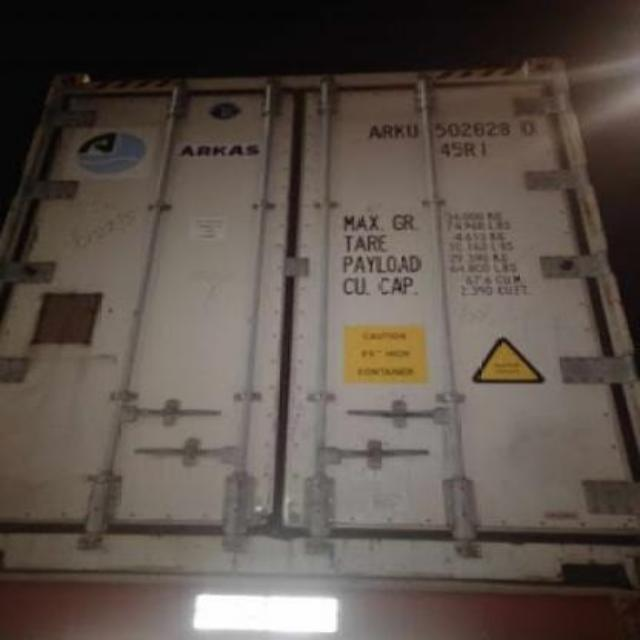0: (520, 122, 536, 134), (448, 124, 460, 136)
2: (484, 120, 498, 138), (462, 122, 472, 138)
5: (434, 124, 446, 138)
8: (498, 120, 510, 136), (472, 122, 484, 136)
A: (368, 125, 378, 138)
K: (394, 123, 406, 139)
R: (380, 125, 392, 138)
U: (406, 124, 418, 138)
